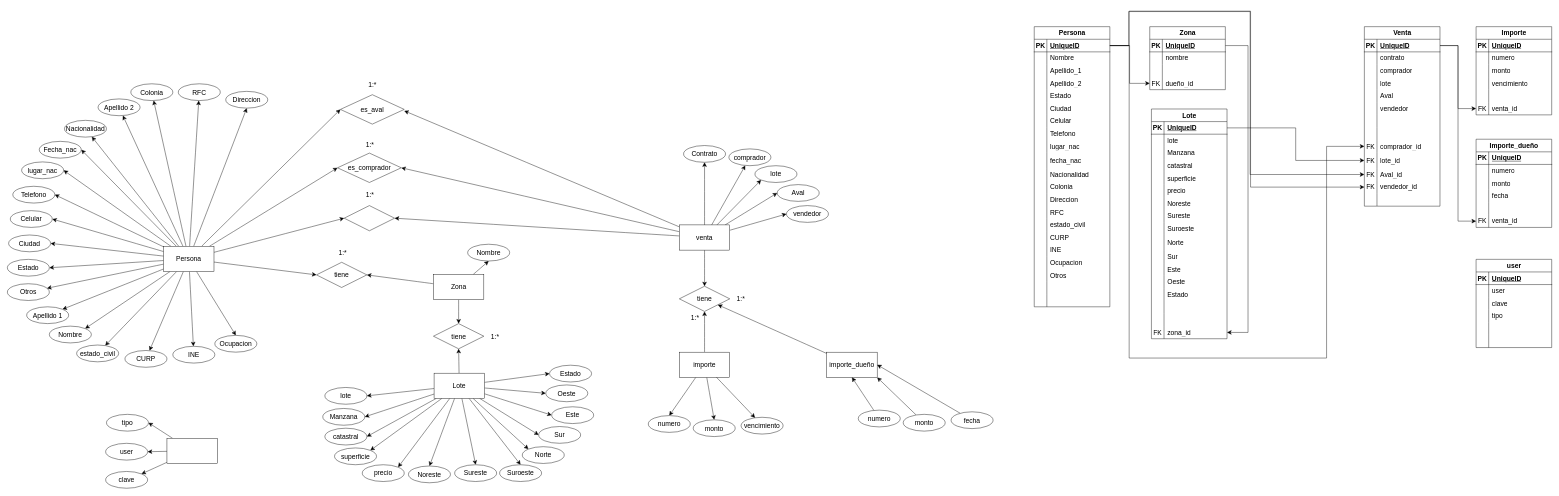
Some shapes in this 1559 by 496 pixel diagram are drawn without their labels. The shapes that lost their labels are listed below. From the top down, each one's box as (x1, y1, x2, y2) in pixels, then its label:
(344, 205, 395, 231): hace
(167, 438, 217, 463): ususario
